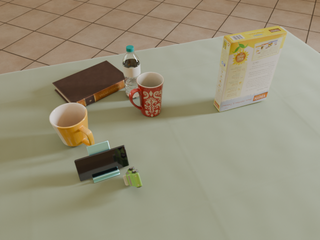book: (52, 61, 126, 107)
bottle: (123, 45, 140, 98)
box: (214, 26, 287, 112)
cup: (50, 103, 94, 146), (129, 72, 164, 117)
phone: (74, 145, 129, 181)
toy_car: (123, 167, 142, 188)
